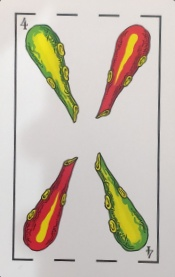4b: (13, 11, 167, 34)
